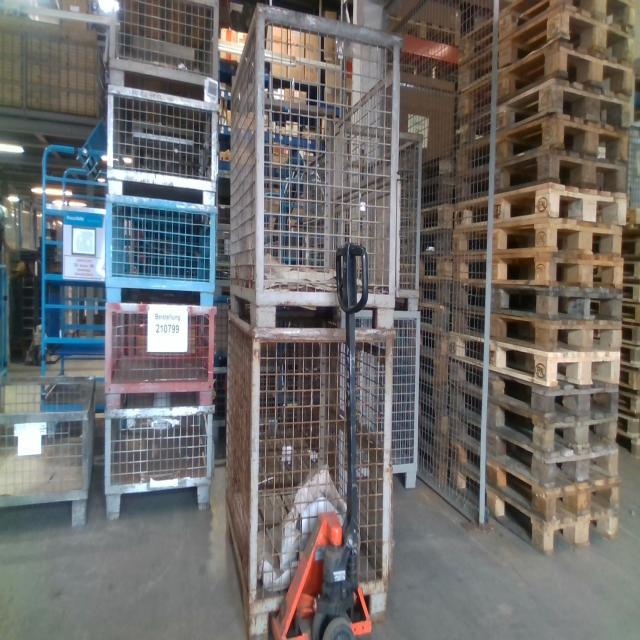pallet: (454, 464, 618, 546), (462, 45, 632, 118), (454, 384, 617, 454), (455, 414, 618, 482), (458, 441, 615, 511), (459, 118, 630, 175), (461, 9, 633, 64), (459, 81, 630, 135), (452, 357, 615, 412), (452, 334, 619, 384), (454, 149, 627, 196), (454, 185, 628, 228), (455, 285, 621, 325), (452, 218, 622, 256), (453, 309, 621, 346), (454, 255, 622, 291), (418, 442, 447, 483), (421, 397, 454, 426), (425, 177, 454, 205), (424, 273, 450, 301), (424, 301, 449, 329), (428, 225, 452, 252), (424, 350, 447, 376), (418, 426, 454, 442), (421, 376, 447, 397), (425, 205, 452, 225), (424, 329, 449, 350), (619, 411, 640, 435), (621, 389, 637, 418), (619, 346, 640, 368), (428, 252, 450, 273), (621, 368, 640, 389), (619, 326, 638, 346), (622, 284, 639, 305), (625, 259, 639, 284), (625, 234, 639, 259), (622, 435, 640, 454), (622, 305, 638, 326)
pallet_truck: (268, 217, 376, 640)
stillage: (218, 6, 412, 326), (221, 306, 389, 634), (316, 115, 425, 312), (331, 311, 425, 504), (0, 373, 97, 527), (102, 292, 215, 407), (107, 84, 217, 200), (104, 410, 213, 517), (104, 200, 219, 299), (107, 1, 220, 89)
